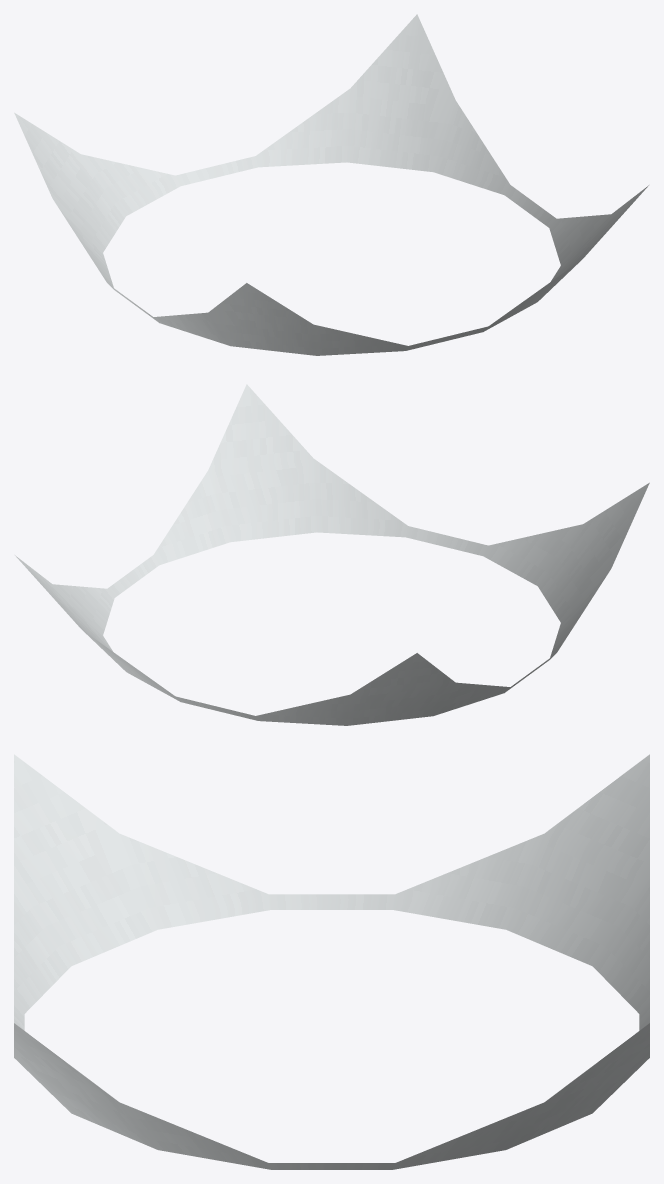
Rendered from spheroid_medium_0_2_2.obj.
The picture shows the model from 3 angles, top to bottom: view 1: azimuth 30°, elevation 25°; view 2: azimuth 150°, elevation 25°; view 3: azimuth 270°, elevation 25°; orthographic projection. The views are drawn at different scales.
Visible parts, largest first — view 1: spheroid_medium_0_2_2; view 2: spheroid_medium_0_2_2; view 3: spheroid_medium_0_2_2.
Boxes of the visible parts, x1,y1,x2,y2 form: spheroid_medium_0_2_2: (14, 14, 648, 355); spheroid_medium_0_2_2: (15, 384, 649, 725); spheroid_medium_0_2_2: (14, 754, 649, 1169).
Size of the model in its own units: 3 by 0.7881 by 3.
